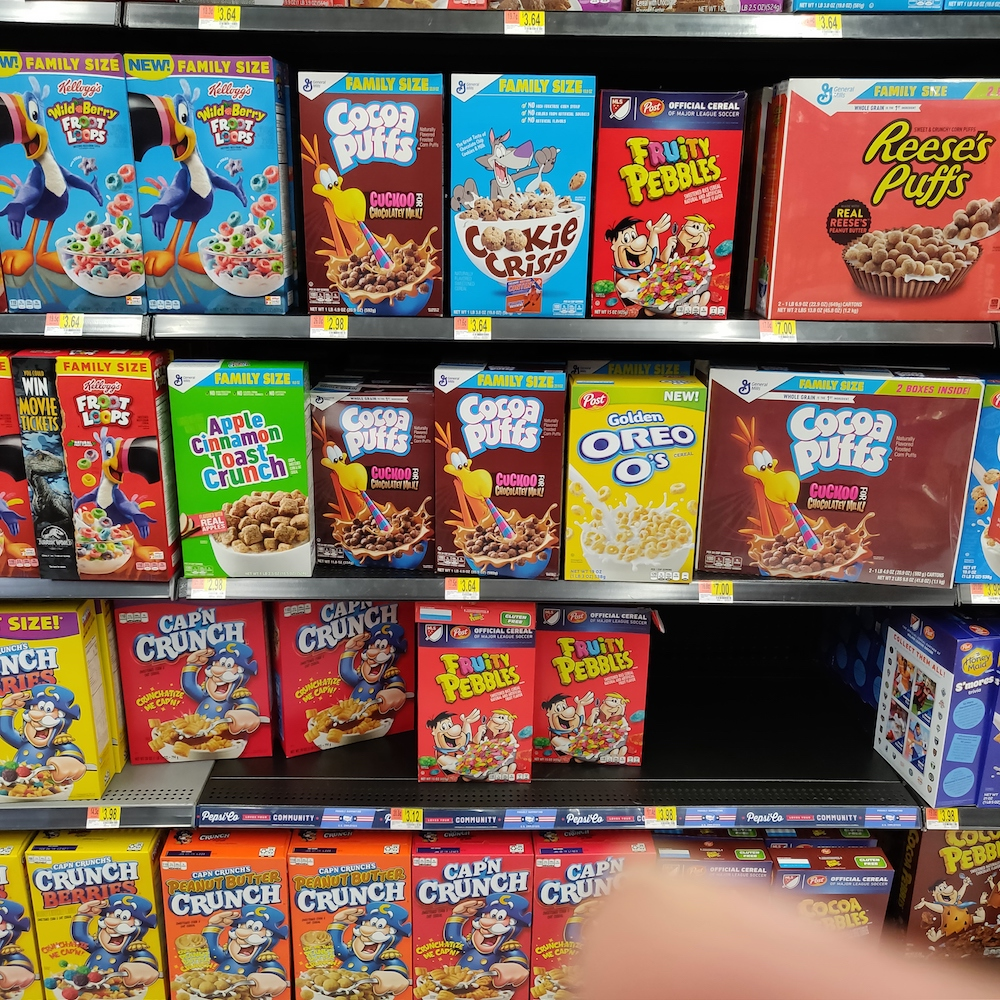Cocoa Pebbles-555517893: (923, 832, 994, 963)
Oreo Golden-568301011: (572, 389, 696, 577)
